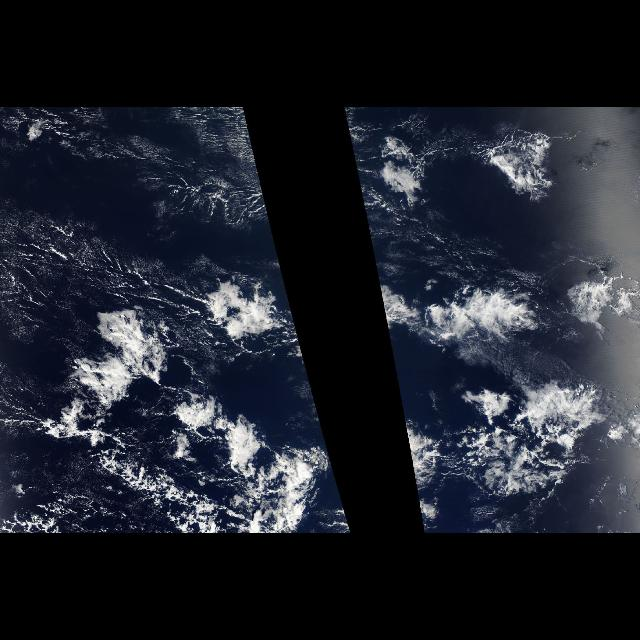Fish: (47, 280, 349, 528), (378, 280, 640, 528)
